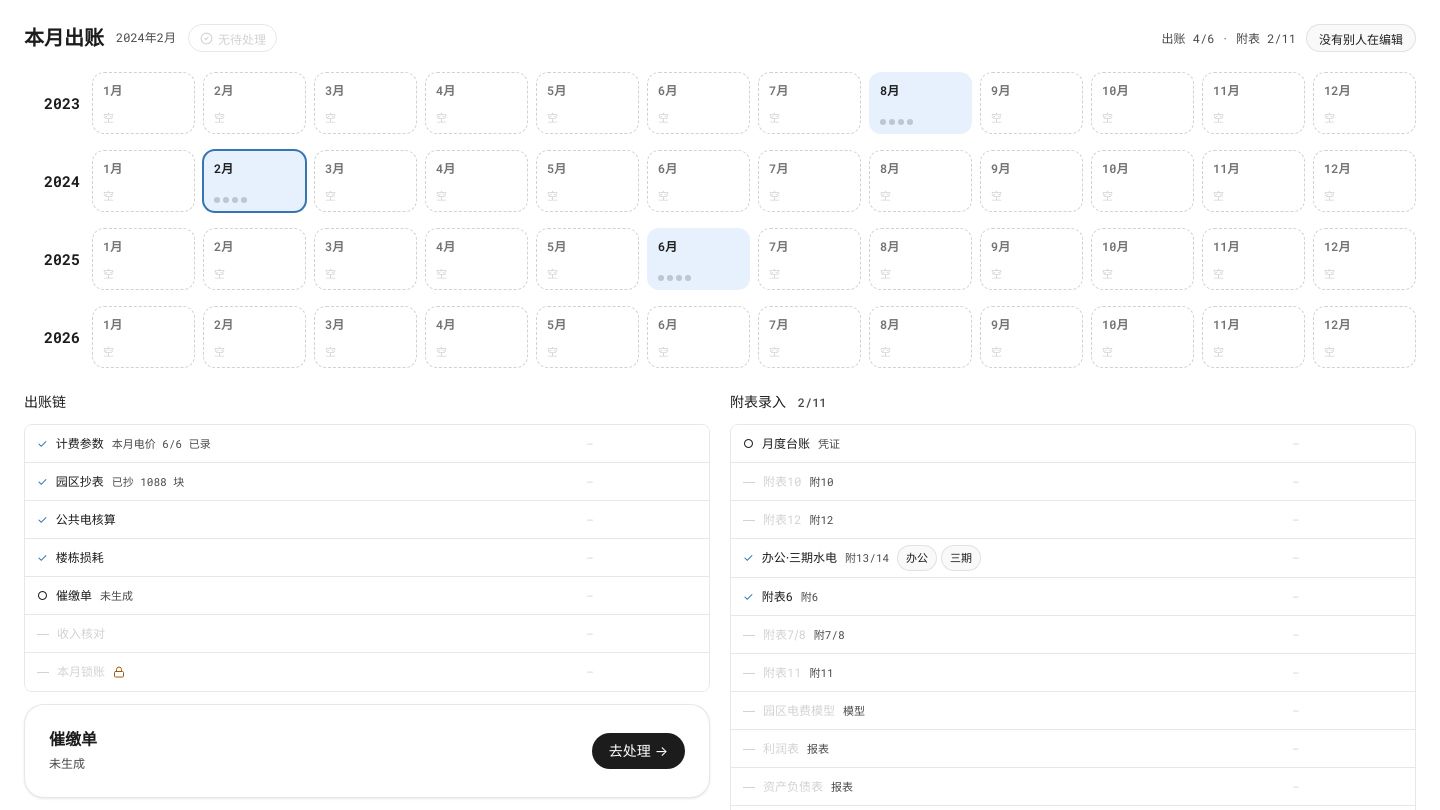
Test case: 数据中心首页 · 主管条(P2 T6) › 主管:零在编辑时胶囊仍在位,点开写「现在没有别人在编辑」
Click the button with class "dh-edpill": (1361, 38) 1306,24 -> 1416,52
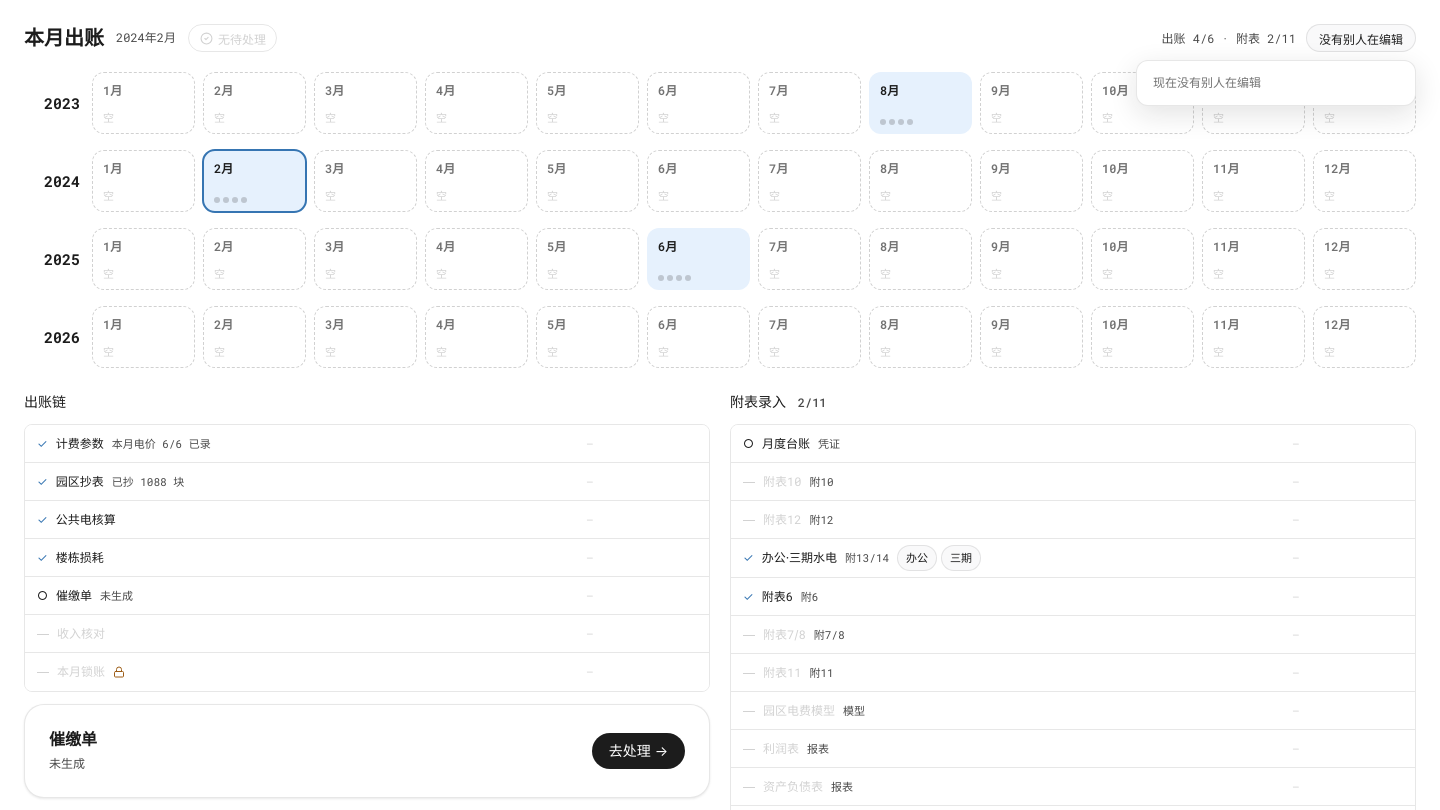
Check: the text with class "dh-edempty" reads "现在没有别人在编辑", box 1153,75 -> 1261,90
